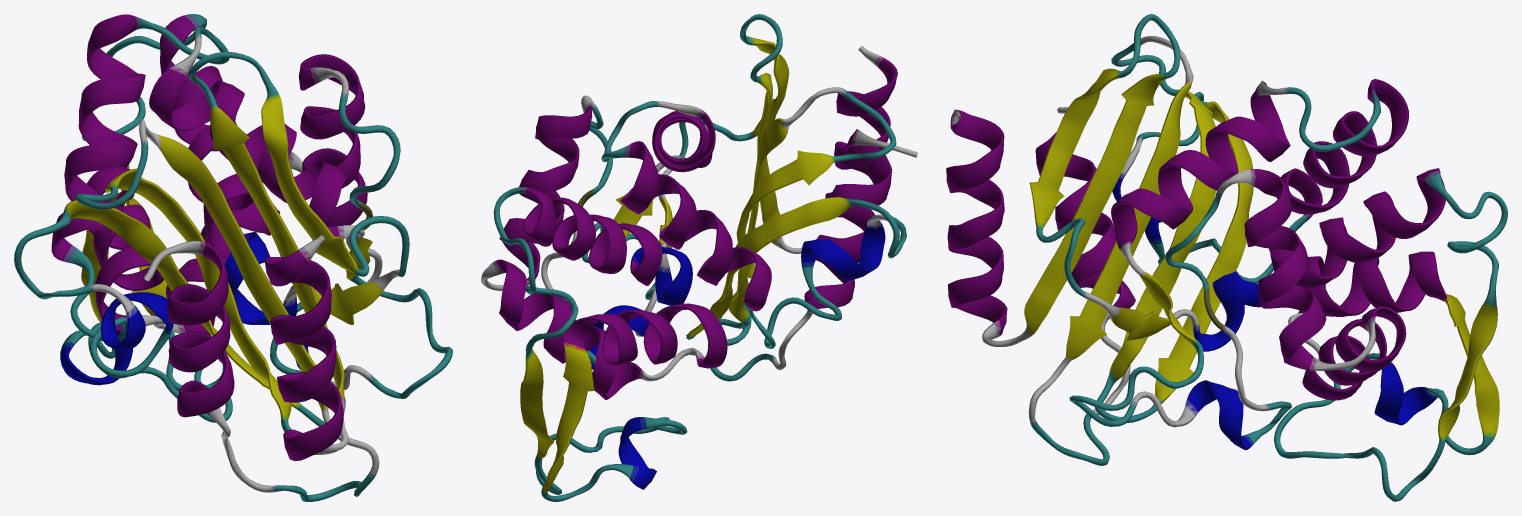
File: animate.0022.obj
3 renders of one model, left to right at view 1: azimuth 30°, elevation 25°; view 2: azimuth 150°, elevation 25°; view 3: azimuth 270°, elevation 25°, orthographic. The views are drawn at different scales.
Visible parts, largest first — view 1: vmd_mol0_rep0; view 2: vmd_mol0_rep0; view 3: vmd_mol0_rep0.
Part boxes in pixels (bbox=[...]): vmd_mol0_rep0: bbox=[14, 14, 452, 501]; vmd_mol0_rep0: bbox=[481, 14, 917, 501]; vmd_mol0_rep0: bbox=[946, 14, 1507, 501].
Size of the model in its own units: 1.01 by 1.12 by 1.32.
